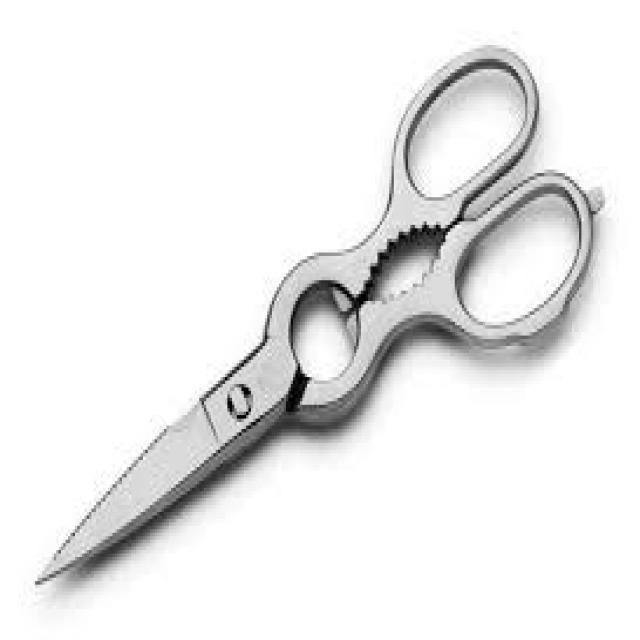scissor: (33, 46, 606, 588)
